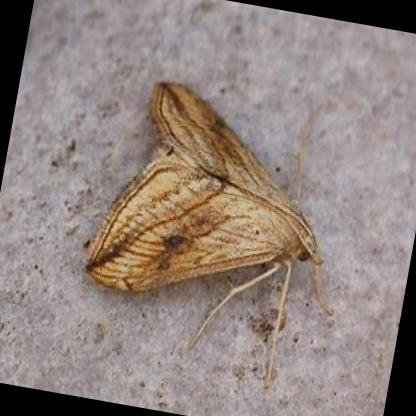Hellula undalis: (78, 75, 337, 393)
